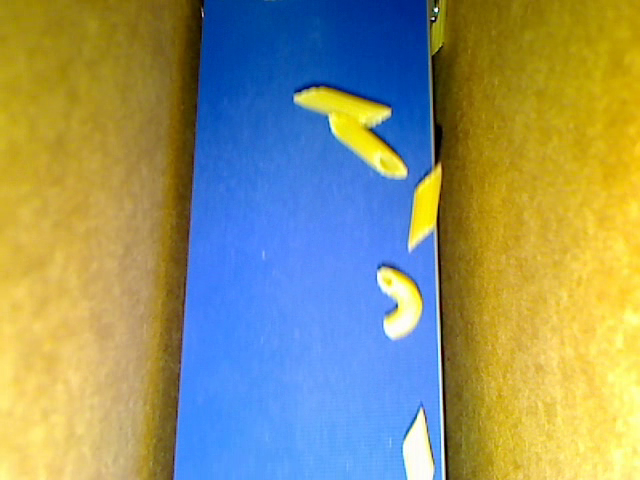elbow: (374, 261, 422, 340)
penne: (330, 107, 403, 180), (293, 80, 393, 123), (406, 153, 448, 251), (399, 407, 435, 479), (431, 1, 448, 60)
